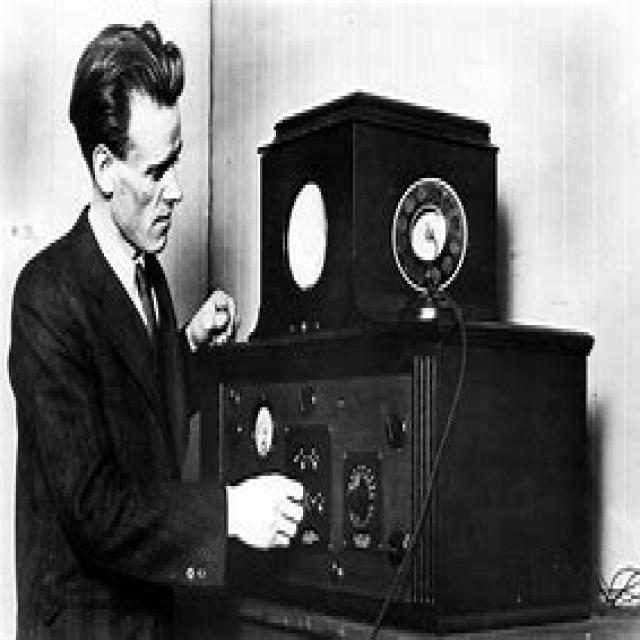tv: (197, 318, 597, 633)
